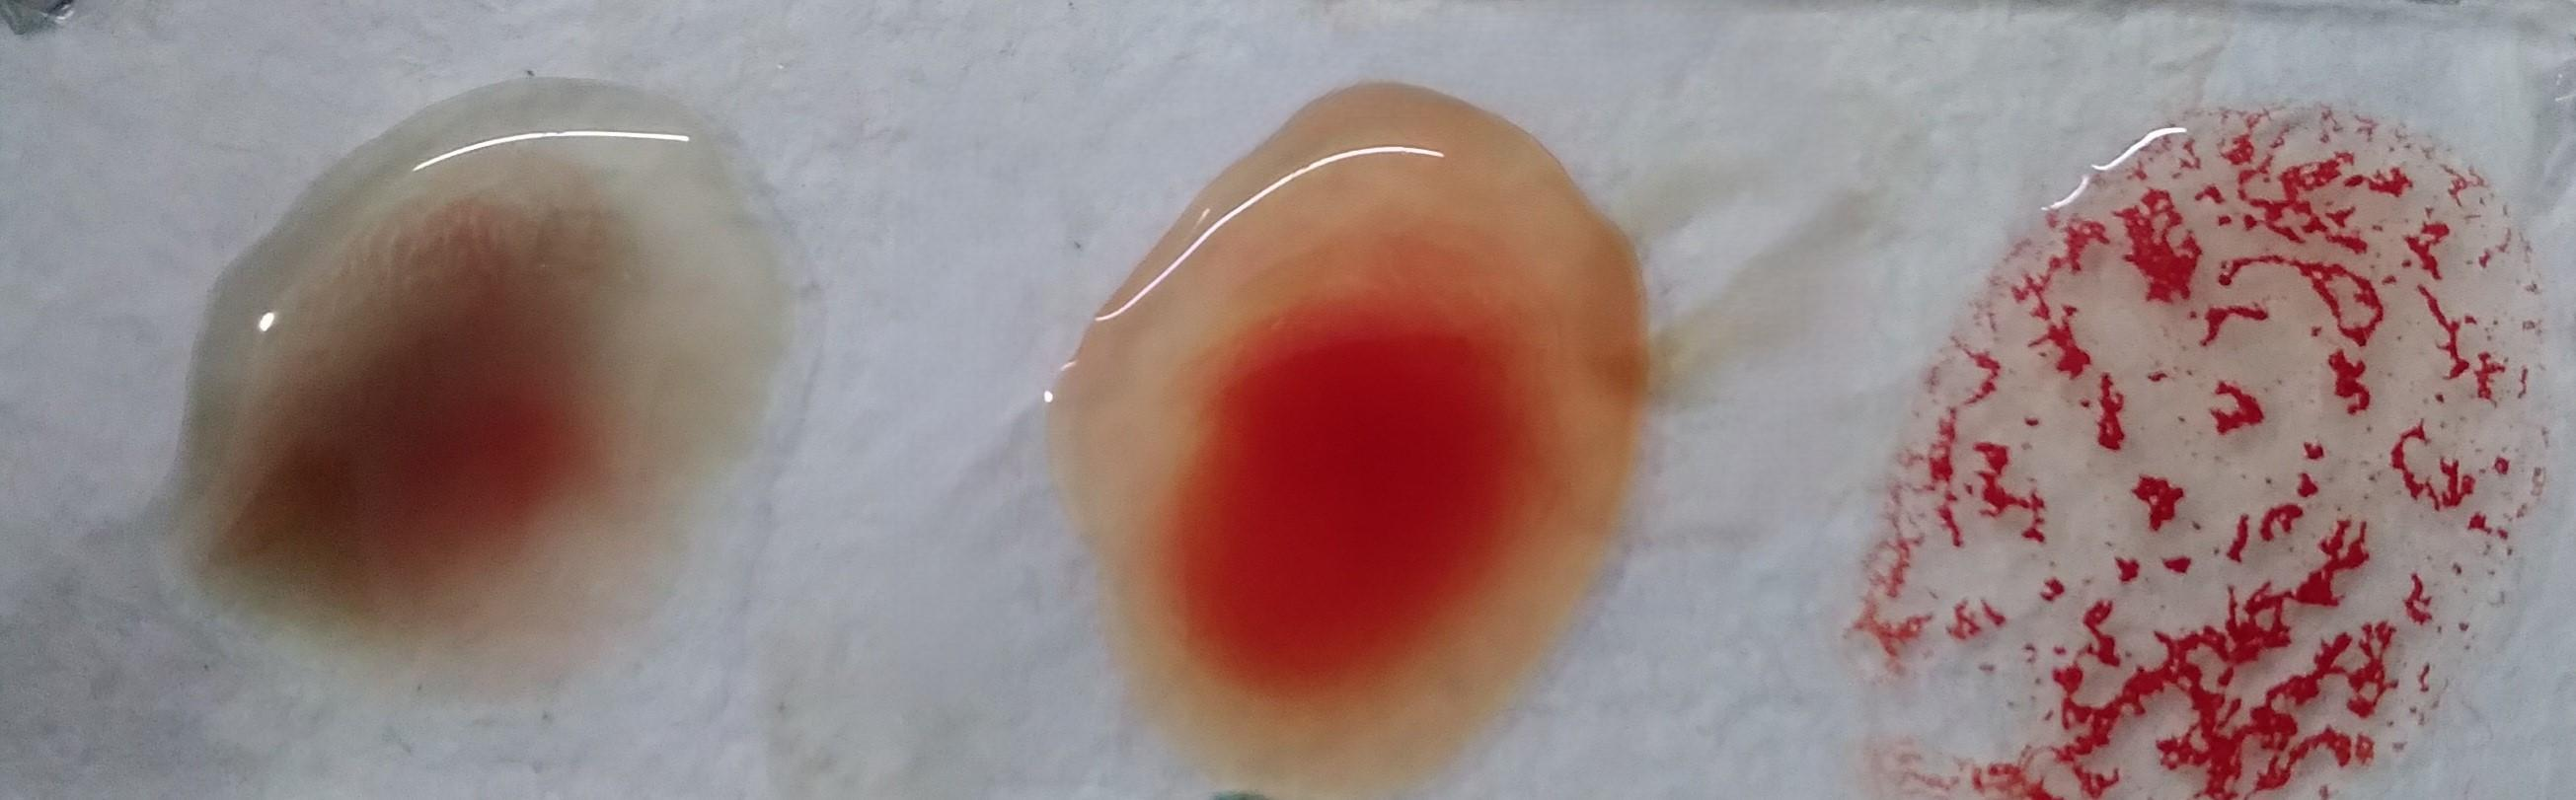D: (1878, 126, 2568, 800)
